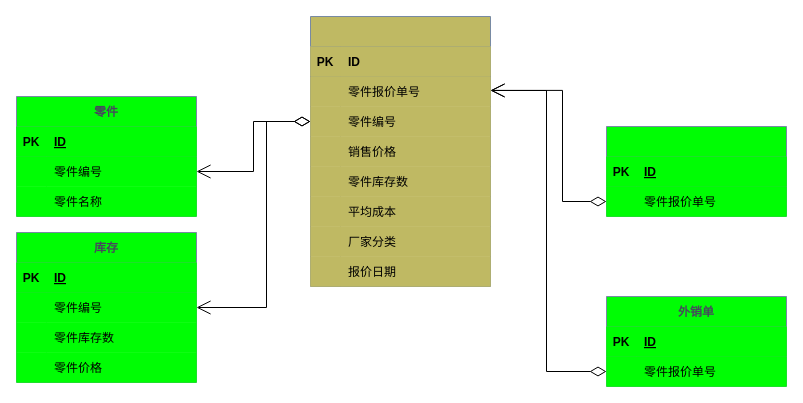
This 803x403 diagram has some shape labels left out. The box of each missing label's shape, as (x1, y1, x2, y2) in pixels:
【销售管理】内销单: (606, 126, 786, 216)
零件快速报价单: (310, 16, 490, 286)
